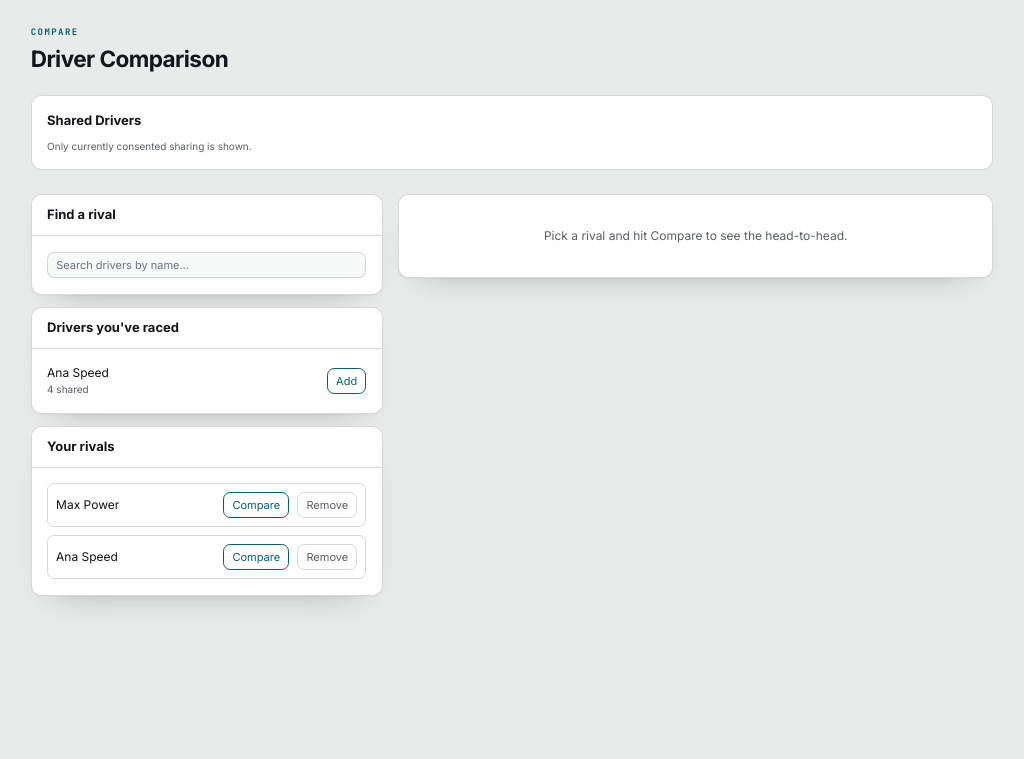
Test case: ComparePage › ignores an obsolete comparison success
Click the button with aria-label "compare against max power". click: (256, 505)
box: [223,492,289,518]
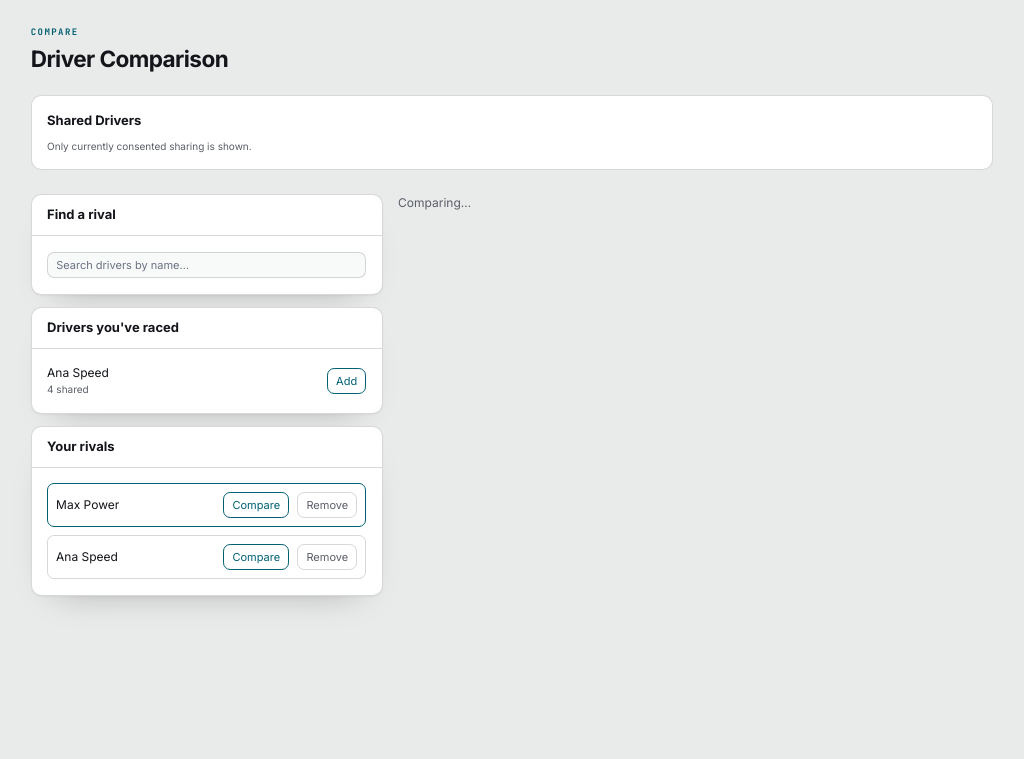
Click the button with aria-label "compare against ana speed". click: (256, 557)
box: [223,544,289,570]
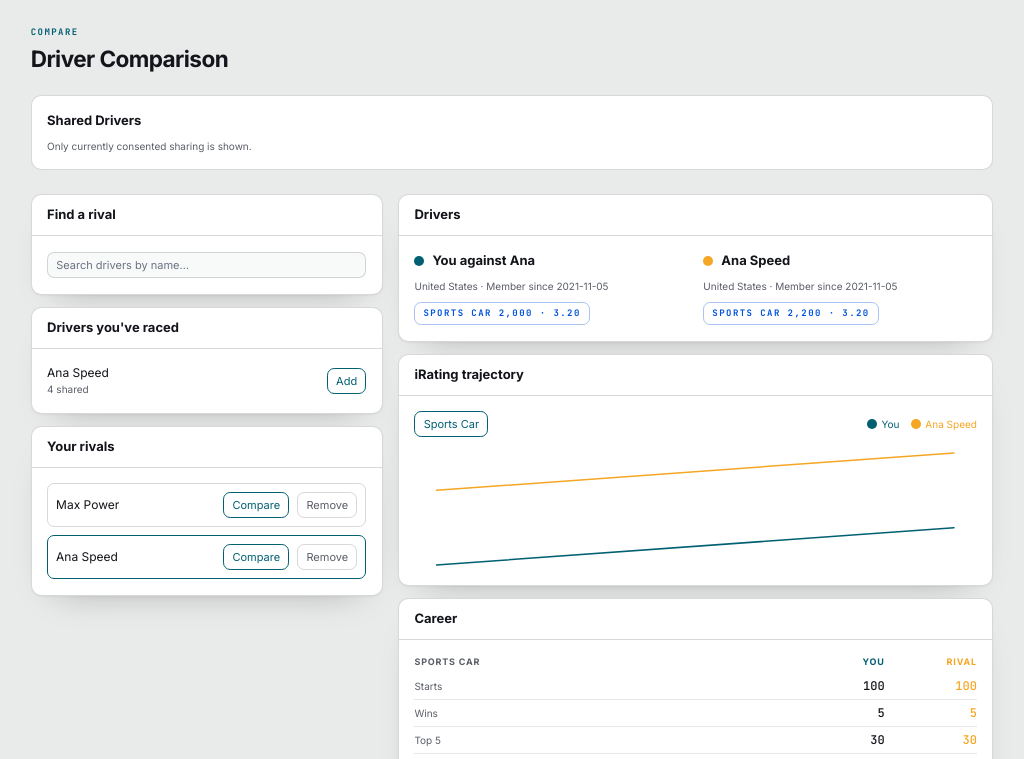
Now the text "You against Ana" is shown, box [432,251,535,271]
